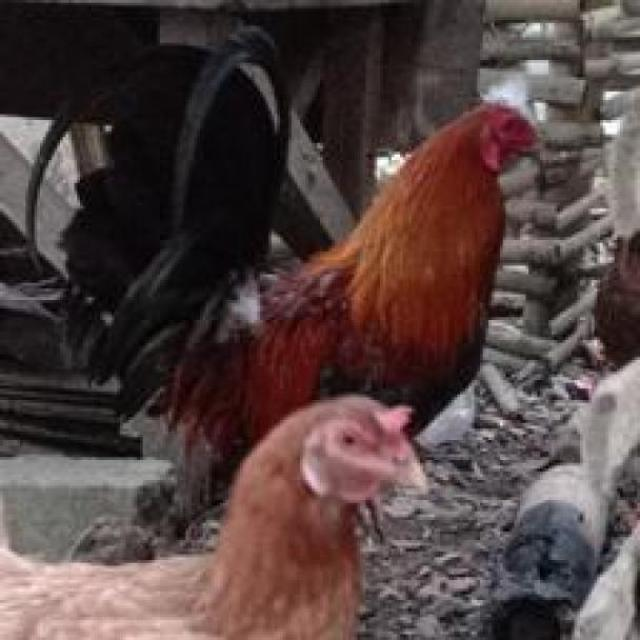Chicken: (68, 24, 564, 498)
